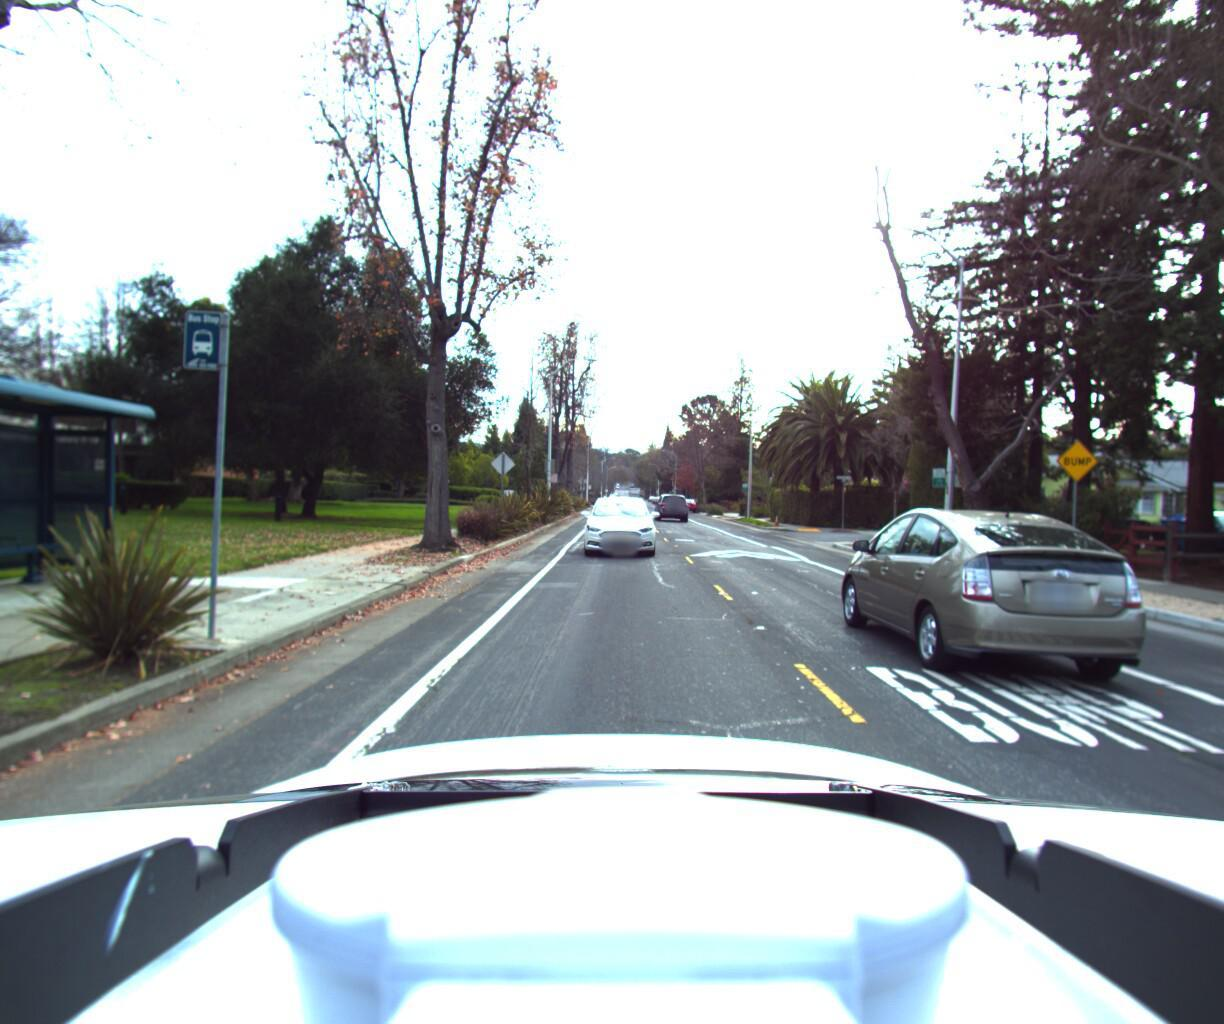car: (818, 501, 1099, 669), (580, 496, 658, 560), (654, 491, 688, 522)
